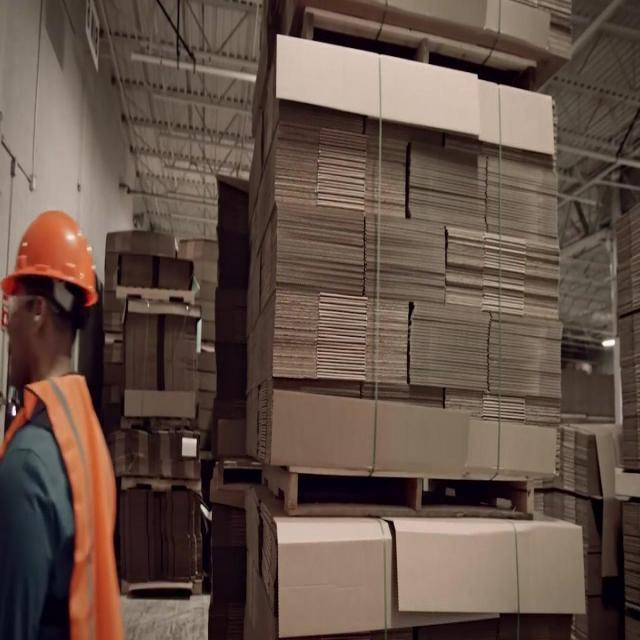reflective_jacket: (0, 362, 129, 639)
safety_helmet: (0, 195, 107, 322)
